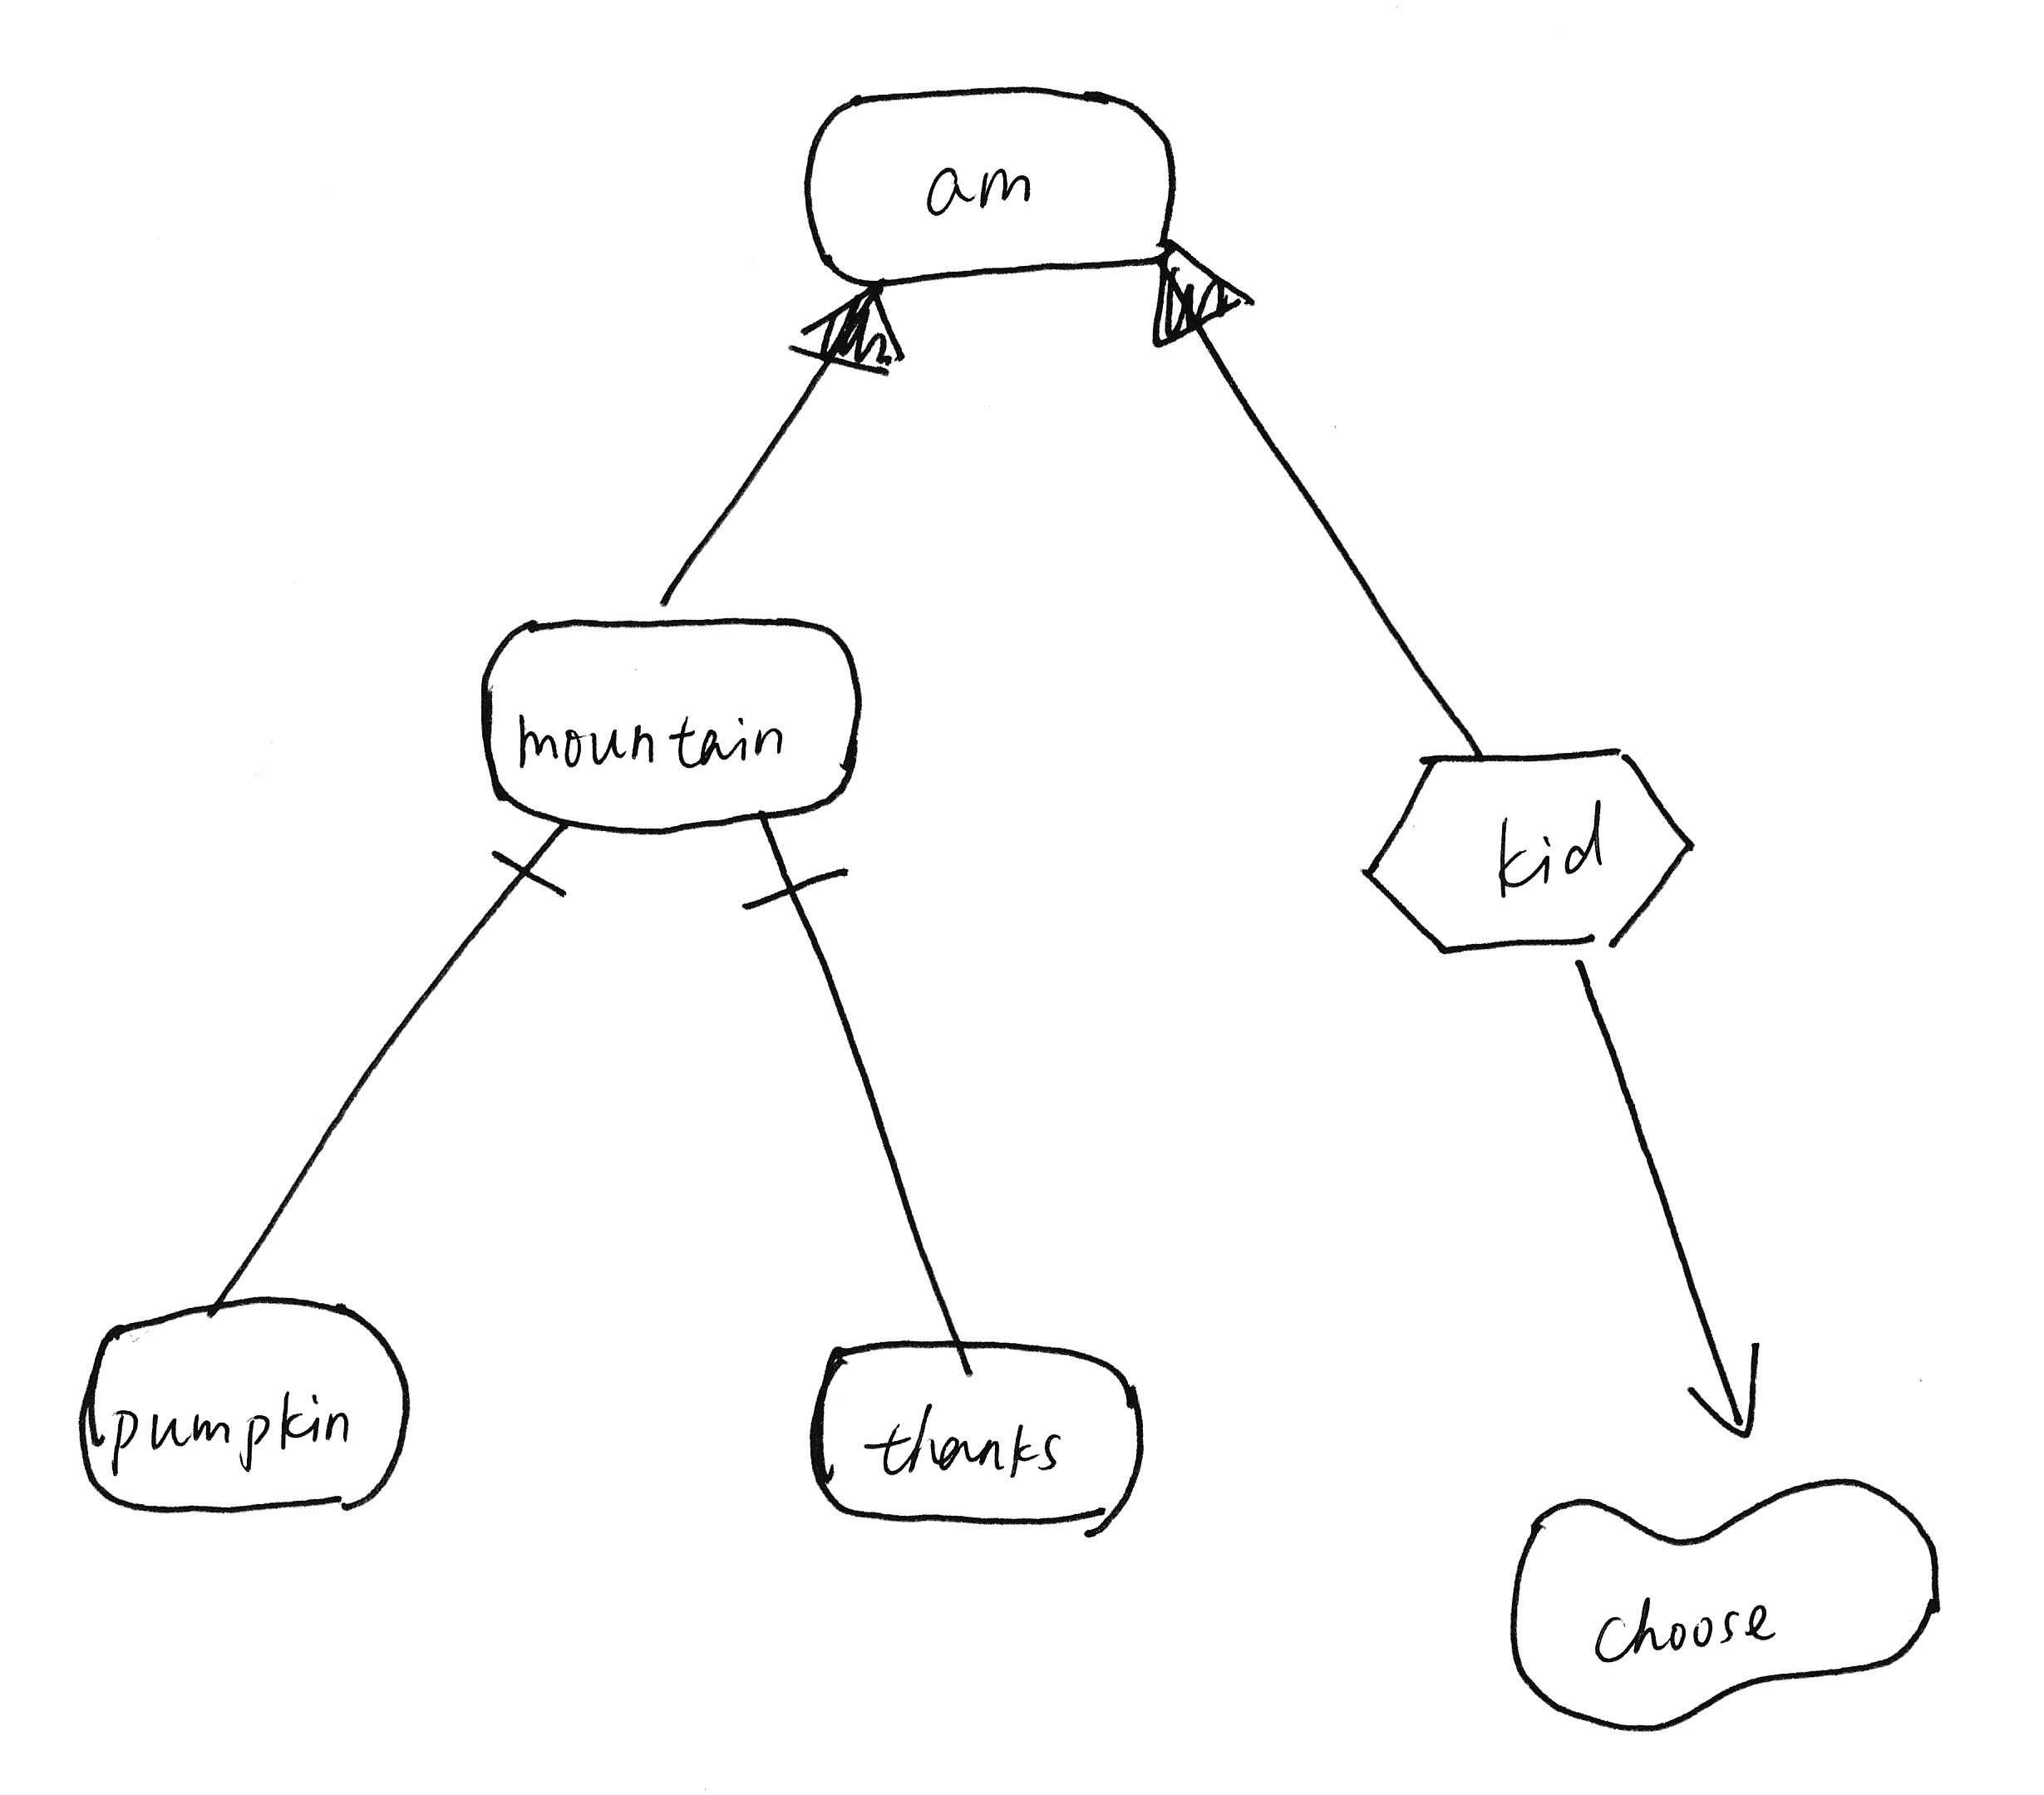and: (727, 839, 867, 942), (469, 810, 591, 923)
arrow: (1670, 1321, 1788, 1451)
goal: (469, 603, 873, 845), (791, 61, 1189, 292), (63, 1281, 424, 1529), (793, 1328, 1159, 1543)
or: (770, 268, 919, 394), (1133, 222, 1267, 358)
quality: (1491, 1463, 1966, 1746)
task: (1349, 732, 1707, 966)
